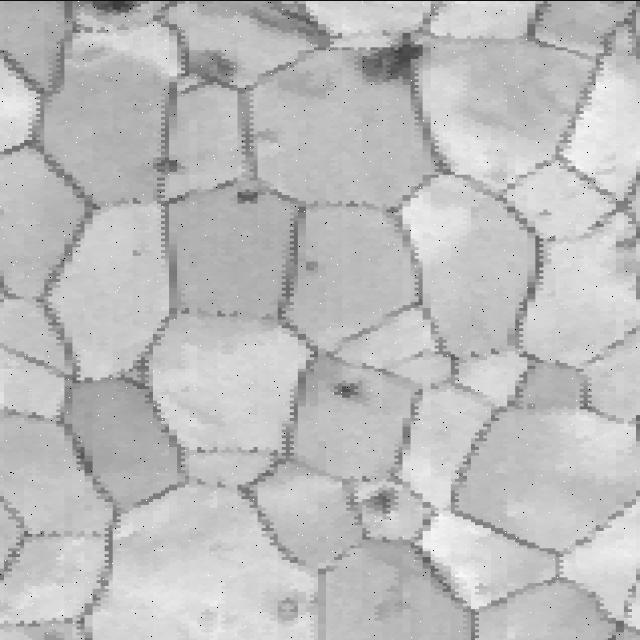good_void: (354, 26, 429, 95), (238, 3, 336, 43), (185, 41, 247, 83), (602, 234, 639, 286), (266, 587, 313, 627), (247, 111, 288, 150), (85, 0, 147, 16), (326, 373, 364, 398), (364, 489, 403, 513), (149, 156, 185, 174), (123, 246, 152, 266), (303, 253, 325, 275), (237, 189, 264, 202)
